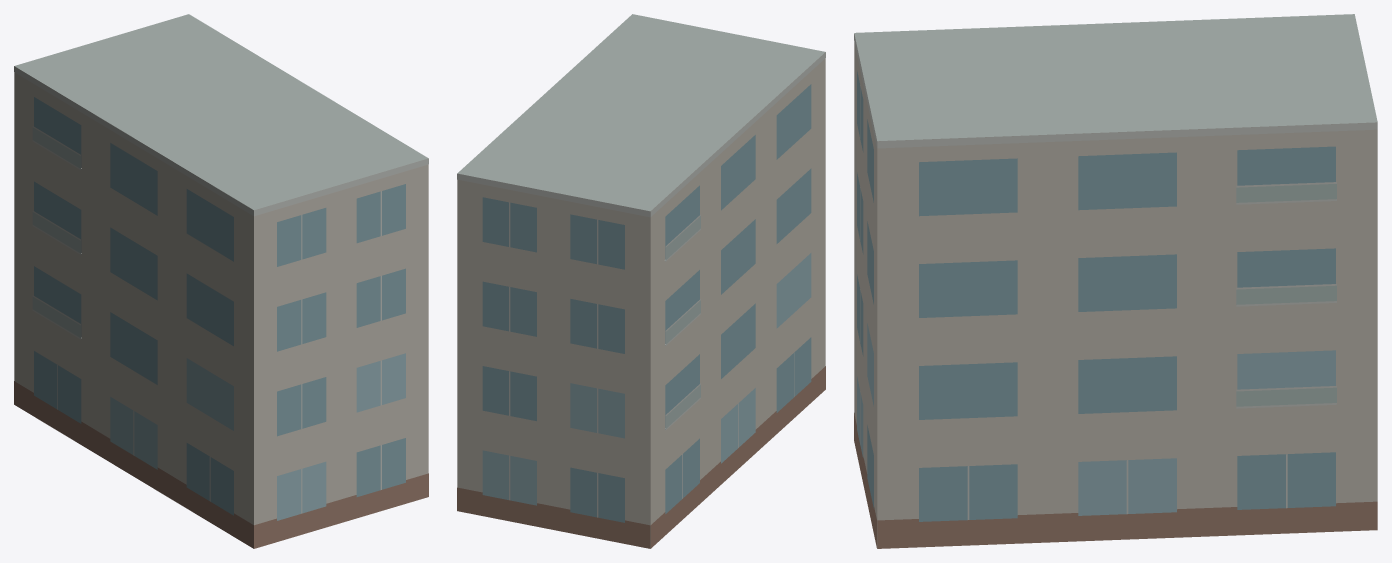
Rendered from survey-upis-32702342.glb.
3 views of the same model, side by side, from view 1: azimuth 30°, elevation 25°; view 2: azimuth 150°, elevation 25°; view 3: azimuth 270°, elevation 25° (orthographic). The views are drawn at different scales.
Visible parts, largest first — view 1: survey-upis-32702342.tmp; view 2: survey-upis-32702342.tmp; view 3: survey-upis-32702342.tmp.
Boxes of the visible parts, bbox=[...] form: survey-upis-32702342.tmp: bbox=[14, 14, 428, 548]; survey-upis-32702342.tmp: bbox=[457, 14, 825, 548]; survey-upis-32702342.tmp: bbox=[854, 14, 1377, 548].
Bounding box in the file's own units: 9.11 × 13.6 × 15.84.
